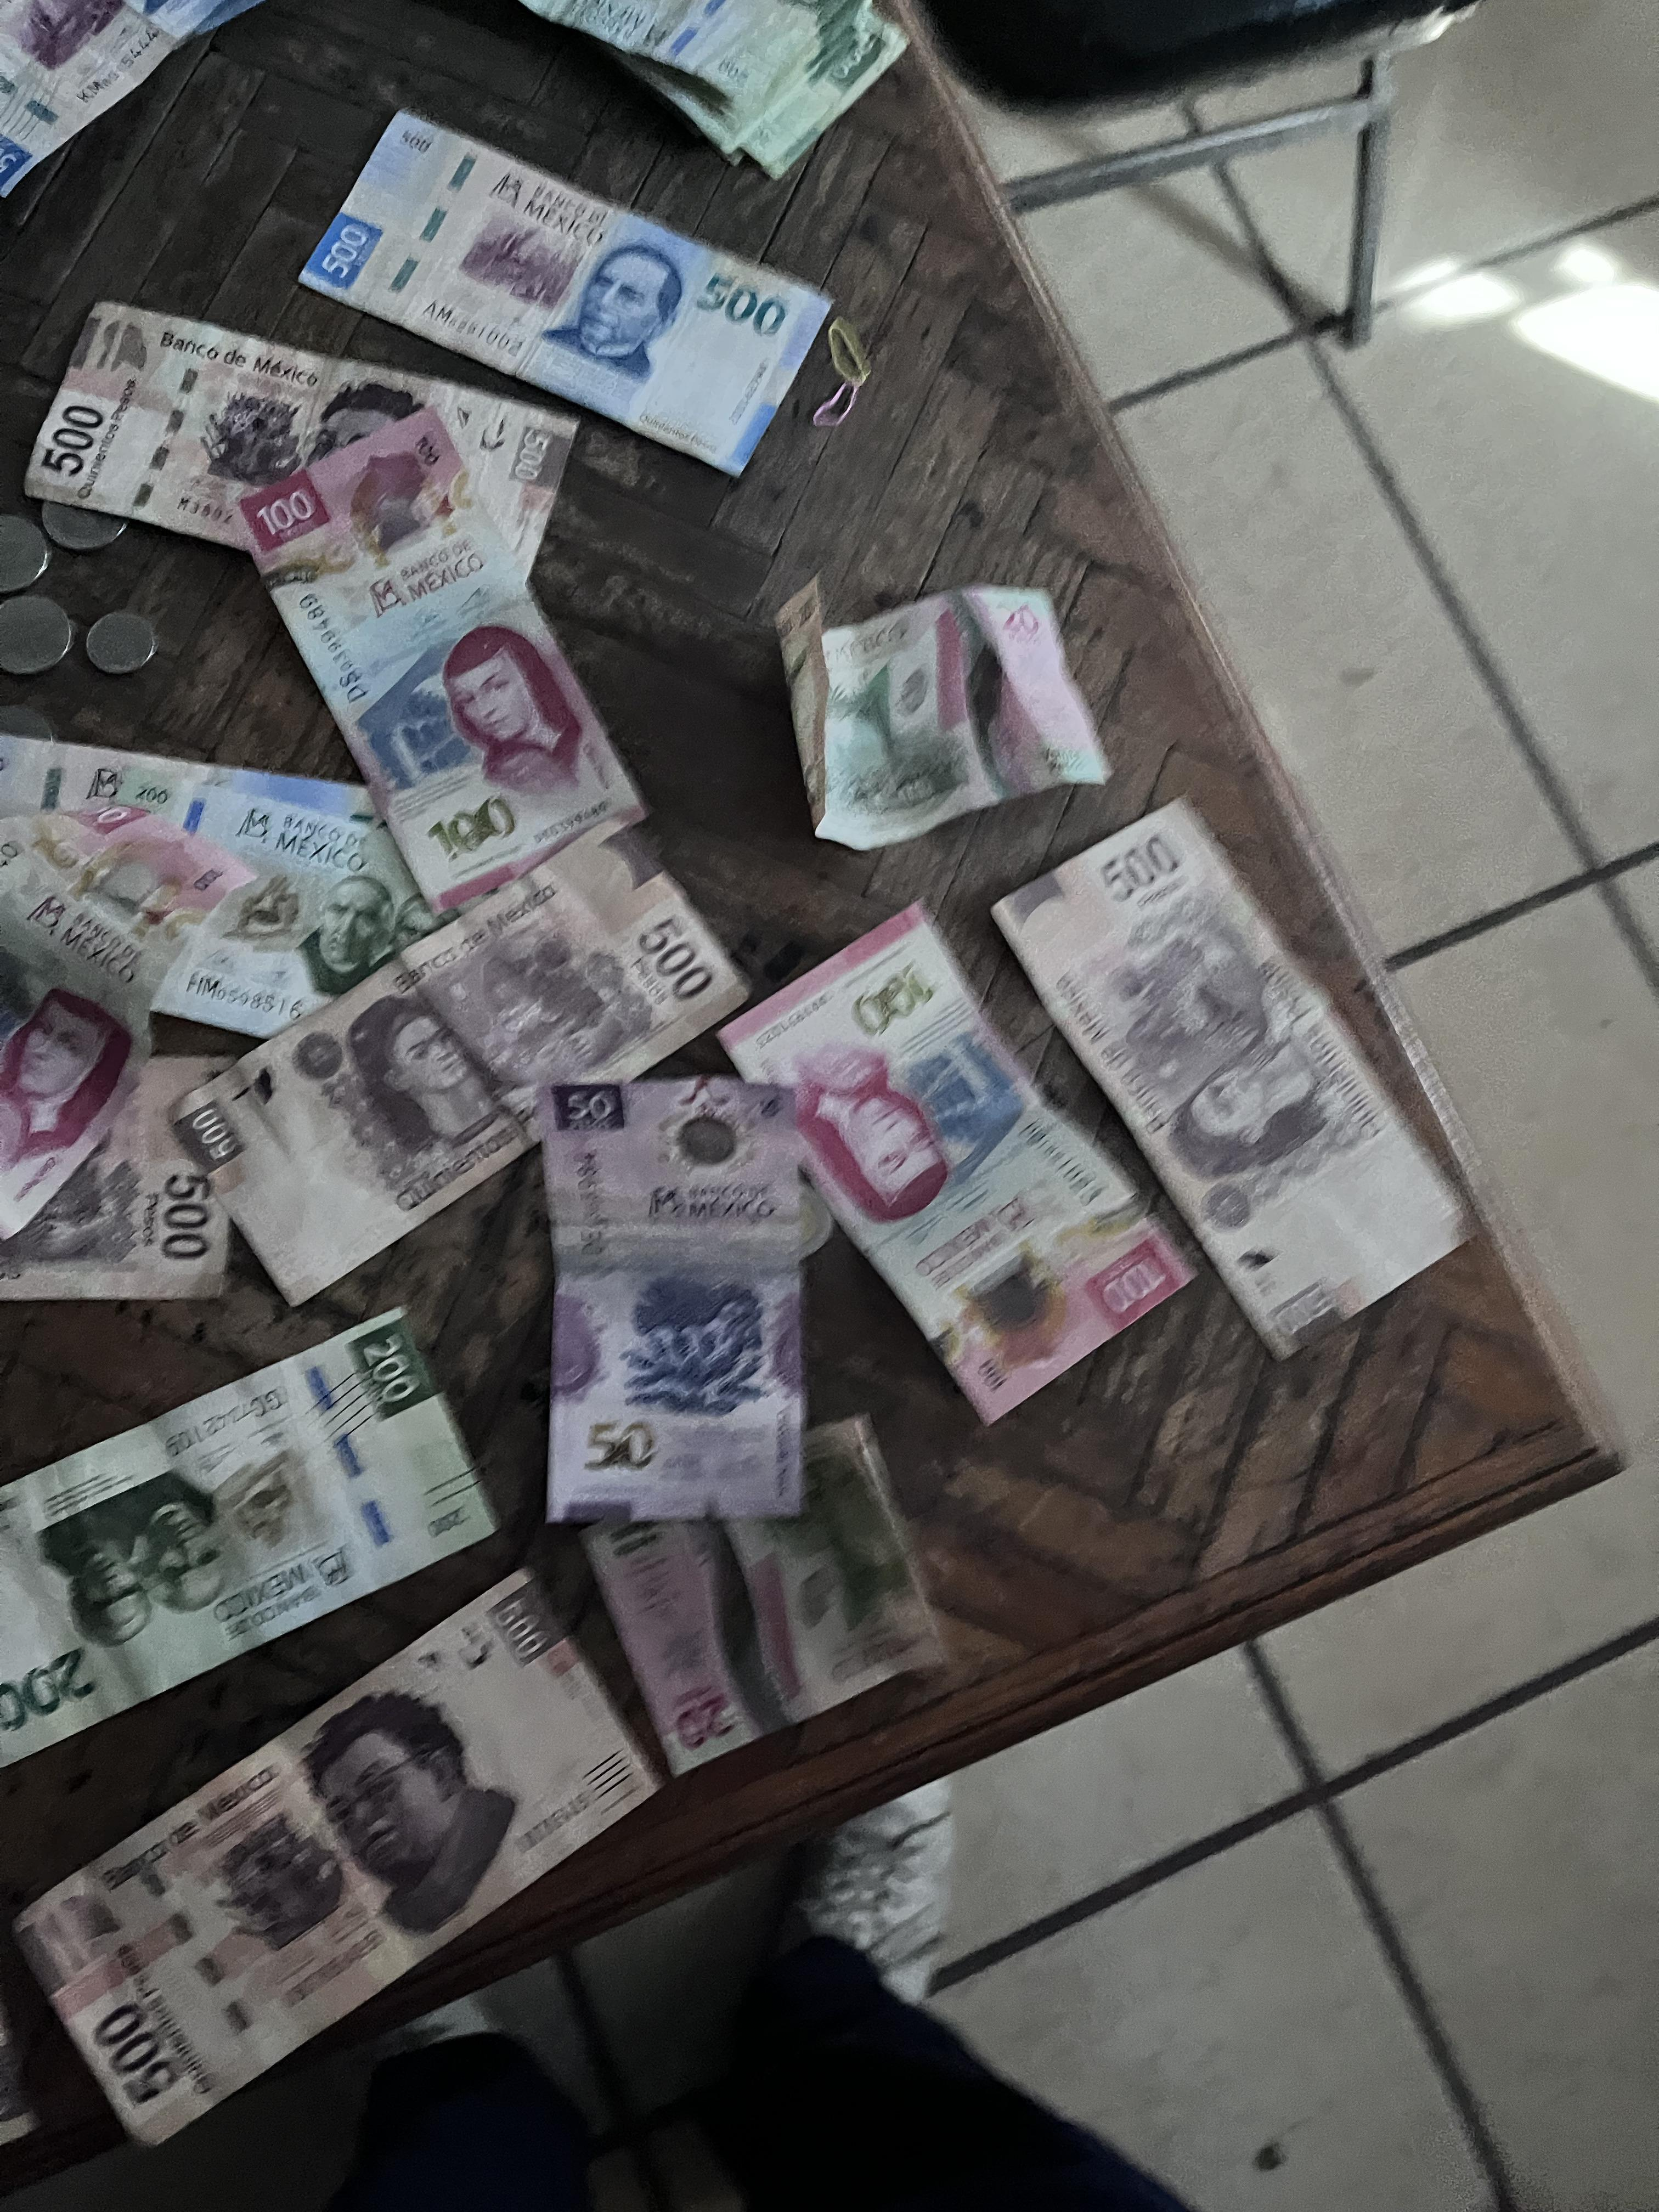100: (725, 899, 1190, 1428), (220, 402, 648, 906), (0, 784, 256, 1247)
20: (582, 1411, 955, 1778), (770, 559, 1119, 873)
200: (0, 1310, 528, 1777), (439, 0, 925, 181)
50: (532, 1069, 830, 1552)
500: (14, 1554, 660, 2155), (969, 796, 1488, 1369), (159, 812, 751, 1310), (10, 293, 629, 617), (0, 1052, 251, 1305)
500 nuevo: (300, 105, 861, 486), (0, 0, 268, 193)
